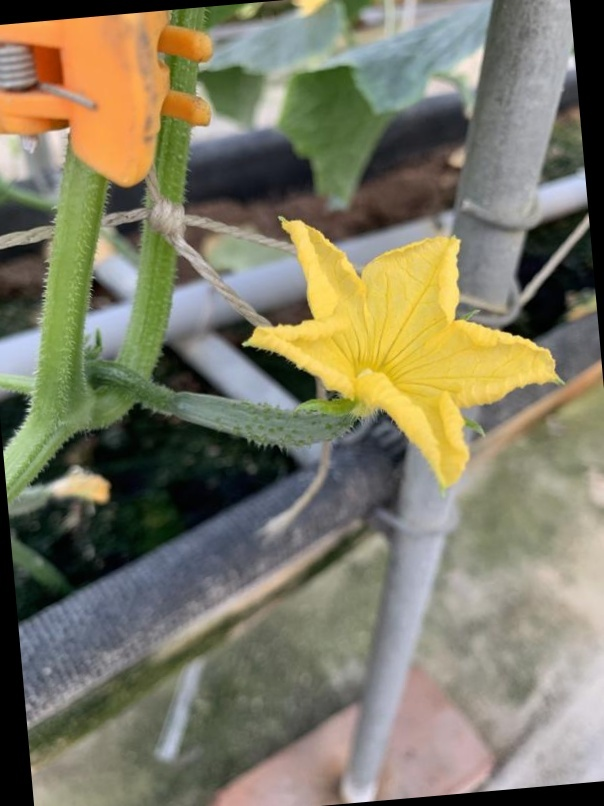flowering: (131, 218, 545, 484)
